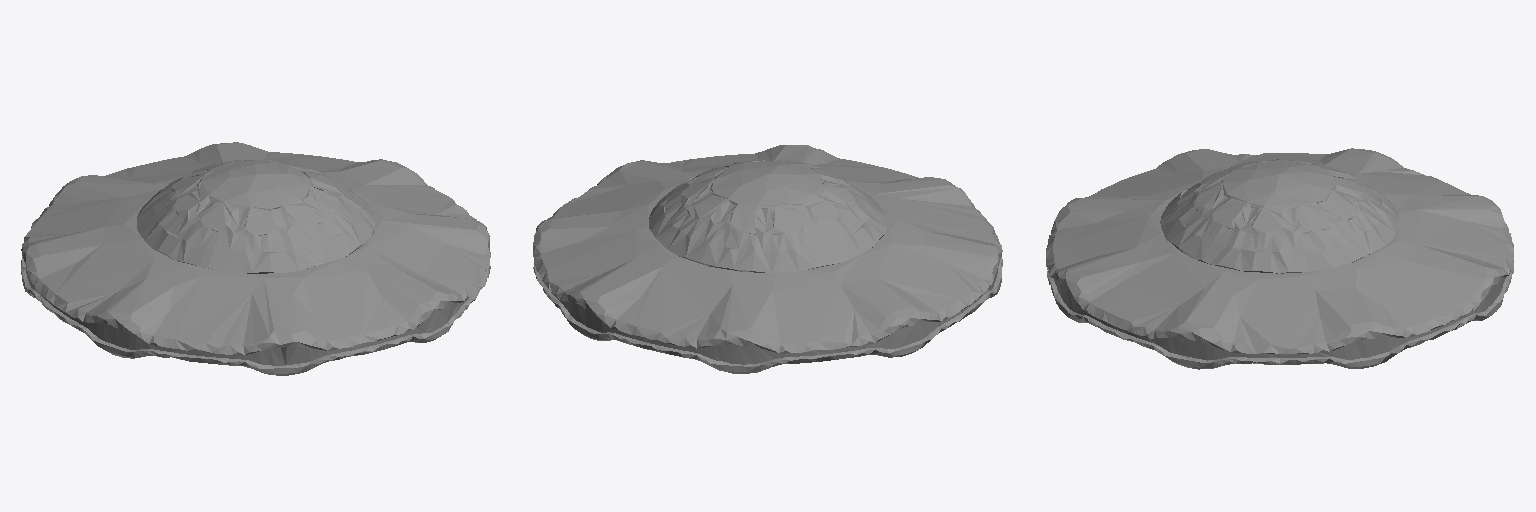
The model's file is frame_088.obj.
The picture shows the model from 3 angles: view 1: azimuth 30°, elevation 25°; view 2: azimuth 150°, elevation 25°; view 3: azimuth 270°, elevation 25°; orthographic projection.
Visible parts, largest first — view 1: 13884_UFO_Saucer_v1_l2; view 2: 13884_UFO_Saucer_v1_l2; view 3: 13884_UFO_Saucer_v1_l2.
Part boxes in pixels (left/top/right/bottom): 13884_UFO_Saucer_v1_l2: left=21, top=142, right=490, bottom=375; 13884_UFO_Saucer_v1_l2: left=533, top=145, right=1002, bottom=373; 13884_UFO_Saucer_v1_l2: left=1046, top=148, right=1513, bottom=369.
Size of the model in its own units: 12.69 by 4.88 by 12.7.